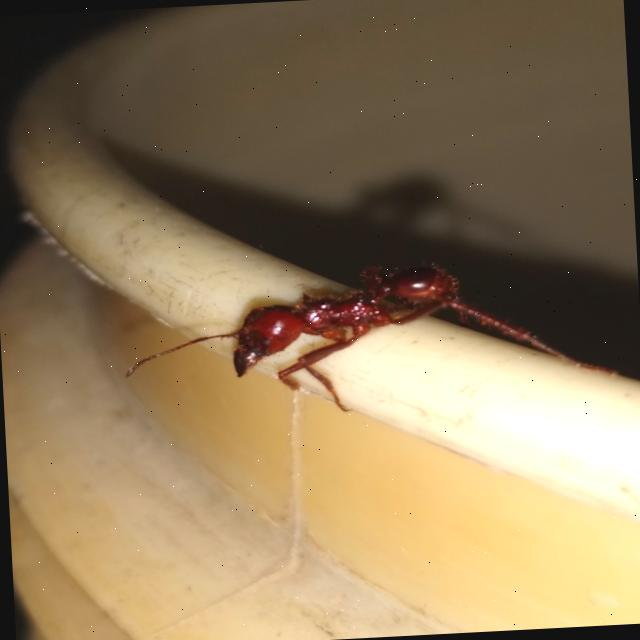Alive-Female-Dealate: (120, 249, 621, 424)
